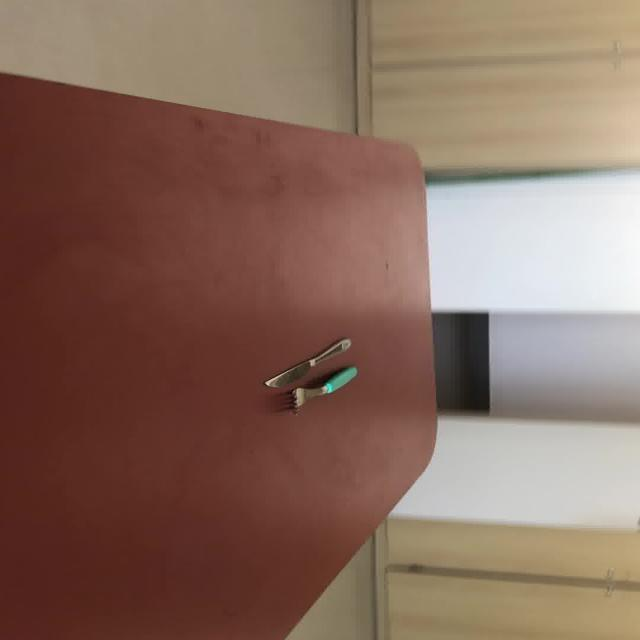fork: (284, 365, 358, 414)
knife fork: (261, 336, 352, 388), (284, 365, 358, 414)
